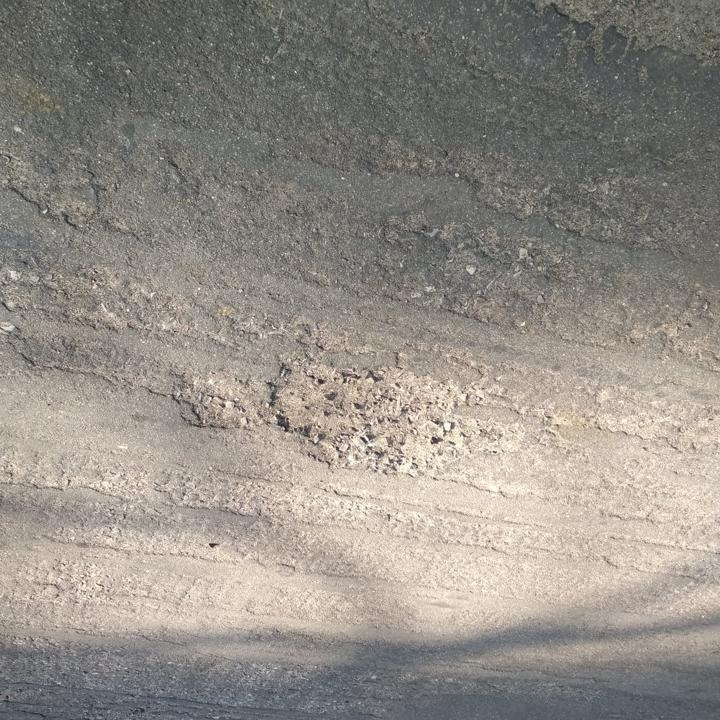pothole: (264, 363, 466, 470), (175, 370, 265, 433)
